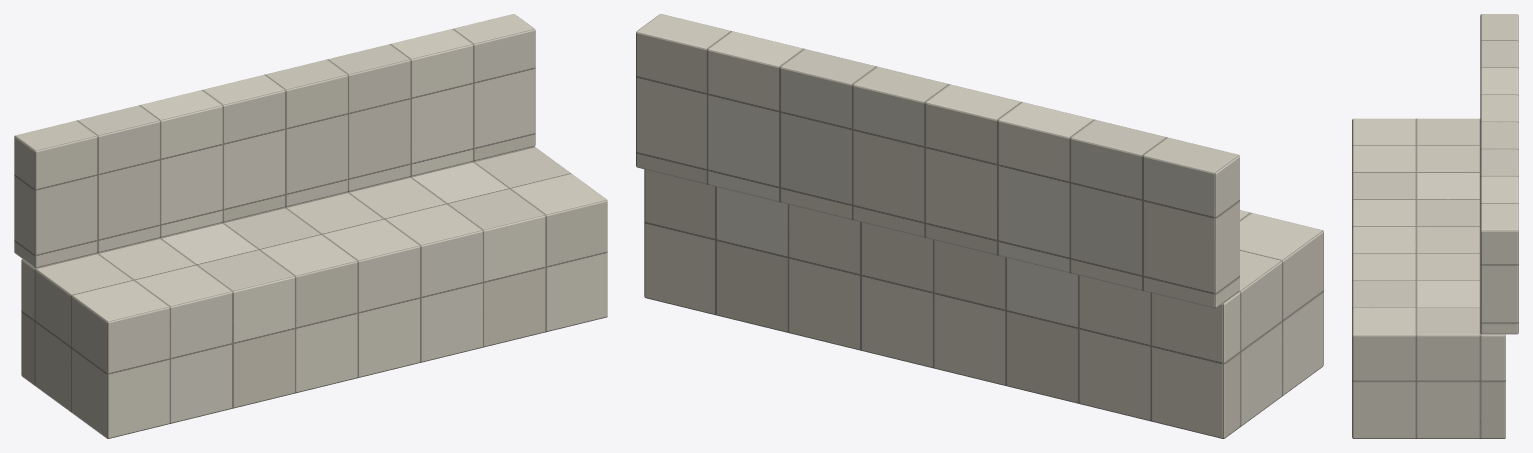
The model's file is PRP_08_TiledBench.glb.
The picture shows the model from 3 angles, left to right: view 1: azimuth 30°, elevation 25°; view 2: azimuth 150°, elevation 25°; view 3: azimuth 270°, elevation 25°; orthographic projection. The views are drawn at different scales.
Visible parts, largest first — view 1: PRP_08_TiledBench_Export; view 2: PRP_08_TiledBench_Export; view 3: PRP_08_TiledBench_Export.
Boxes of the visible parts, box(x1,y1,x2,y2) form: PRP_08_TiledBench_Export: box(14, 14, 607, 438); PRP_08_TiledBench_Export: box(636, 14, 1323, 438); PRP_08_TiledBench_Export: box(1352, 14, 1518, 438).
Size of the model in its own units: 2 by 0.9 by 0.65.
Materials: 1 (1 with a texture image).
